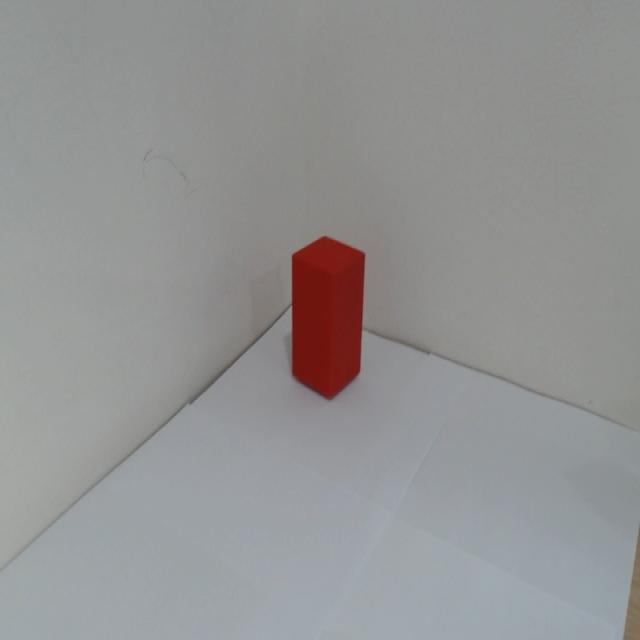cube: (287, 232, 367, 403)
